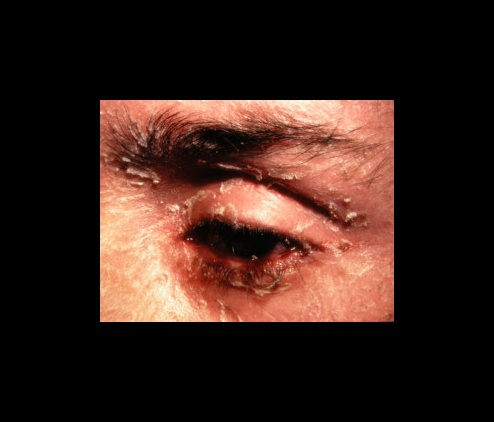SJS-TEN: (96, 158, 394, 329)
